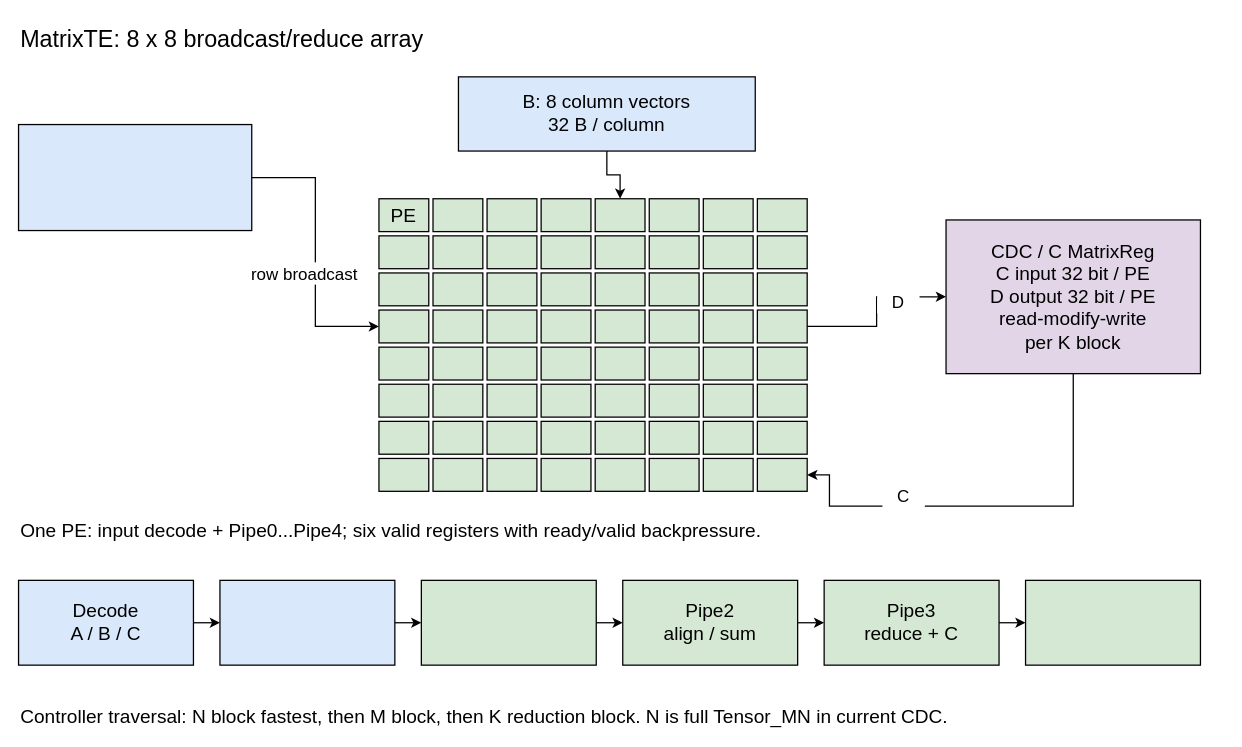
This 1242x747 diagram has some shape labels left out. Here are the shapes that lost their labels. From the top down, the box of each, then its label:
(17, 123, 252, 231): A: 8 row vectors 32 B / row
(663, 154, 804, 176): column broadcast
(219, 579, 395, 665): Pipe0 products
(420, 579, 596, 665): Pipe1 max exponent
(1024, 579, 1201, 665): Pipe4 normalize / select
